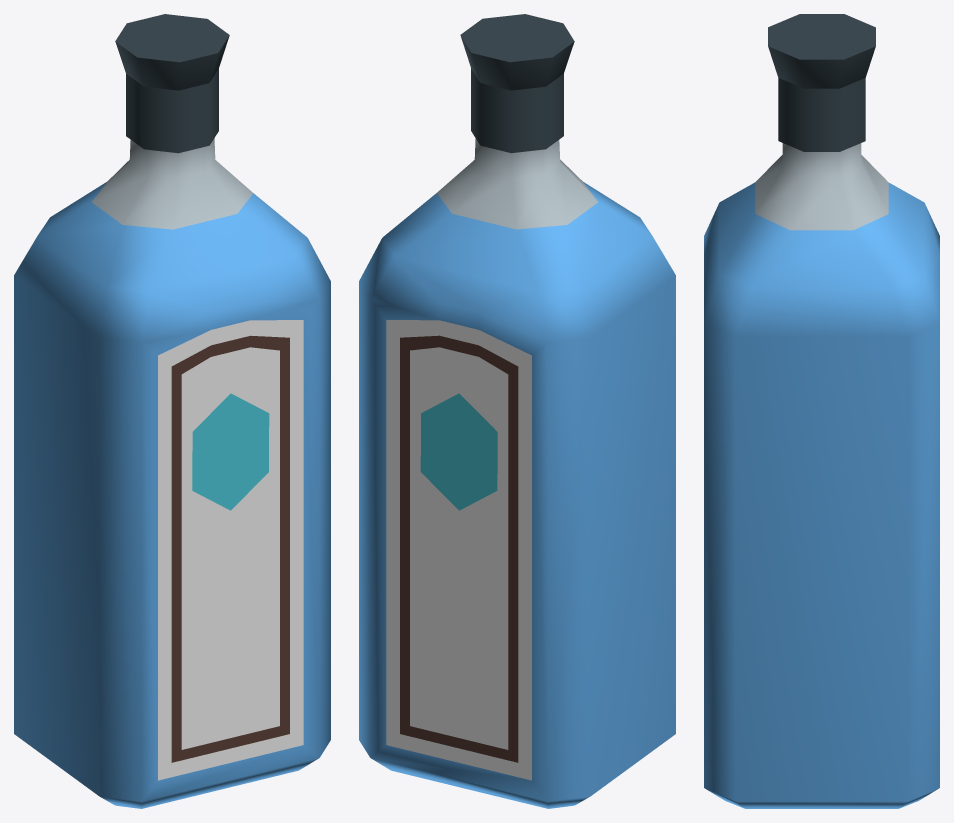
The model's file is prop_088.fbx.
3 renders of one model, left to right at view 1: azimuth 30°, elevation 25°; view 2: azimuth 150°, elevation 25°; view 3: azimuth 270°, elevation 25°, orthographic.
Parts seen in each view (by area): view 1: prop_088; view 2: prop_088; view 3: prop_088.
Boxes of the visible parts, <box> form: prop_088: <box>14,14,330,808</box>; prop_088: <box>359,14,675,808</box>; prop_088: <box>704,14,939,808</box>.
Size of the model in its own units: 14.17 by 12.35 by 41.91.
